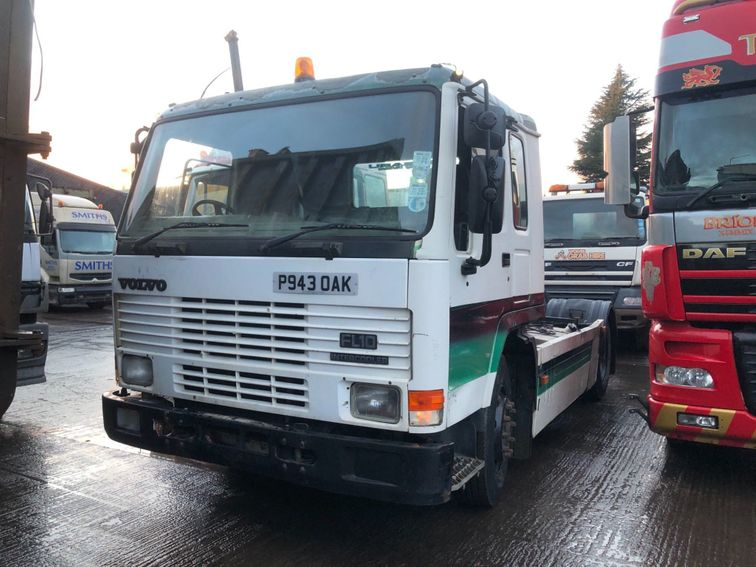Semi: (100, 57, 617, 504), (37, 193, 119, 309)
